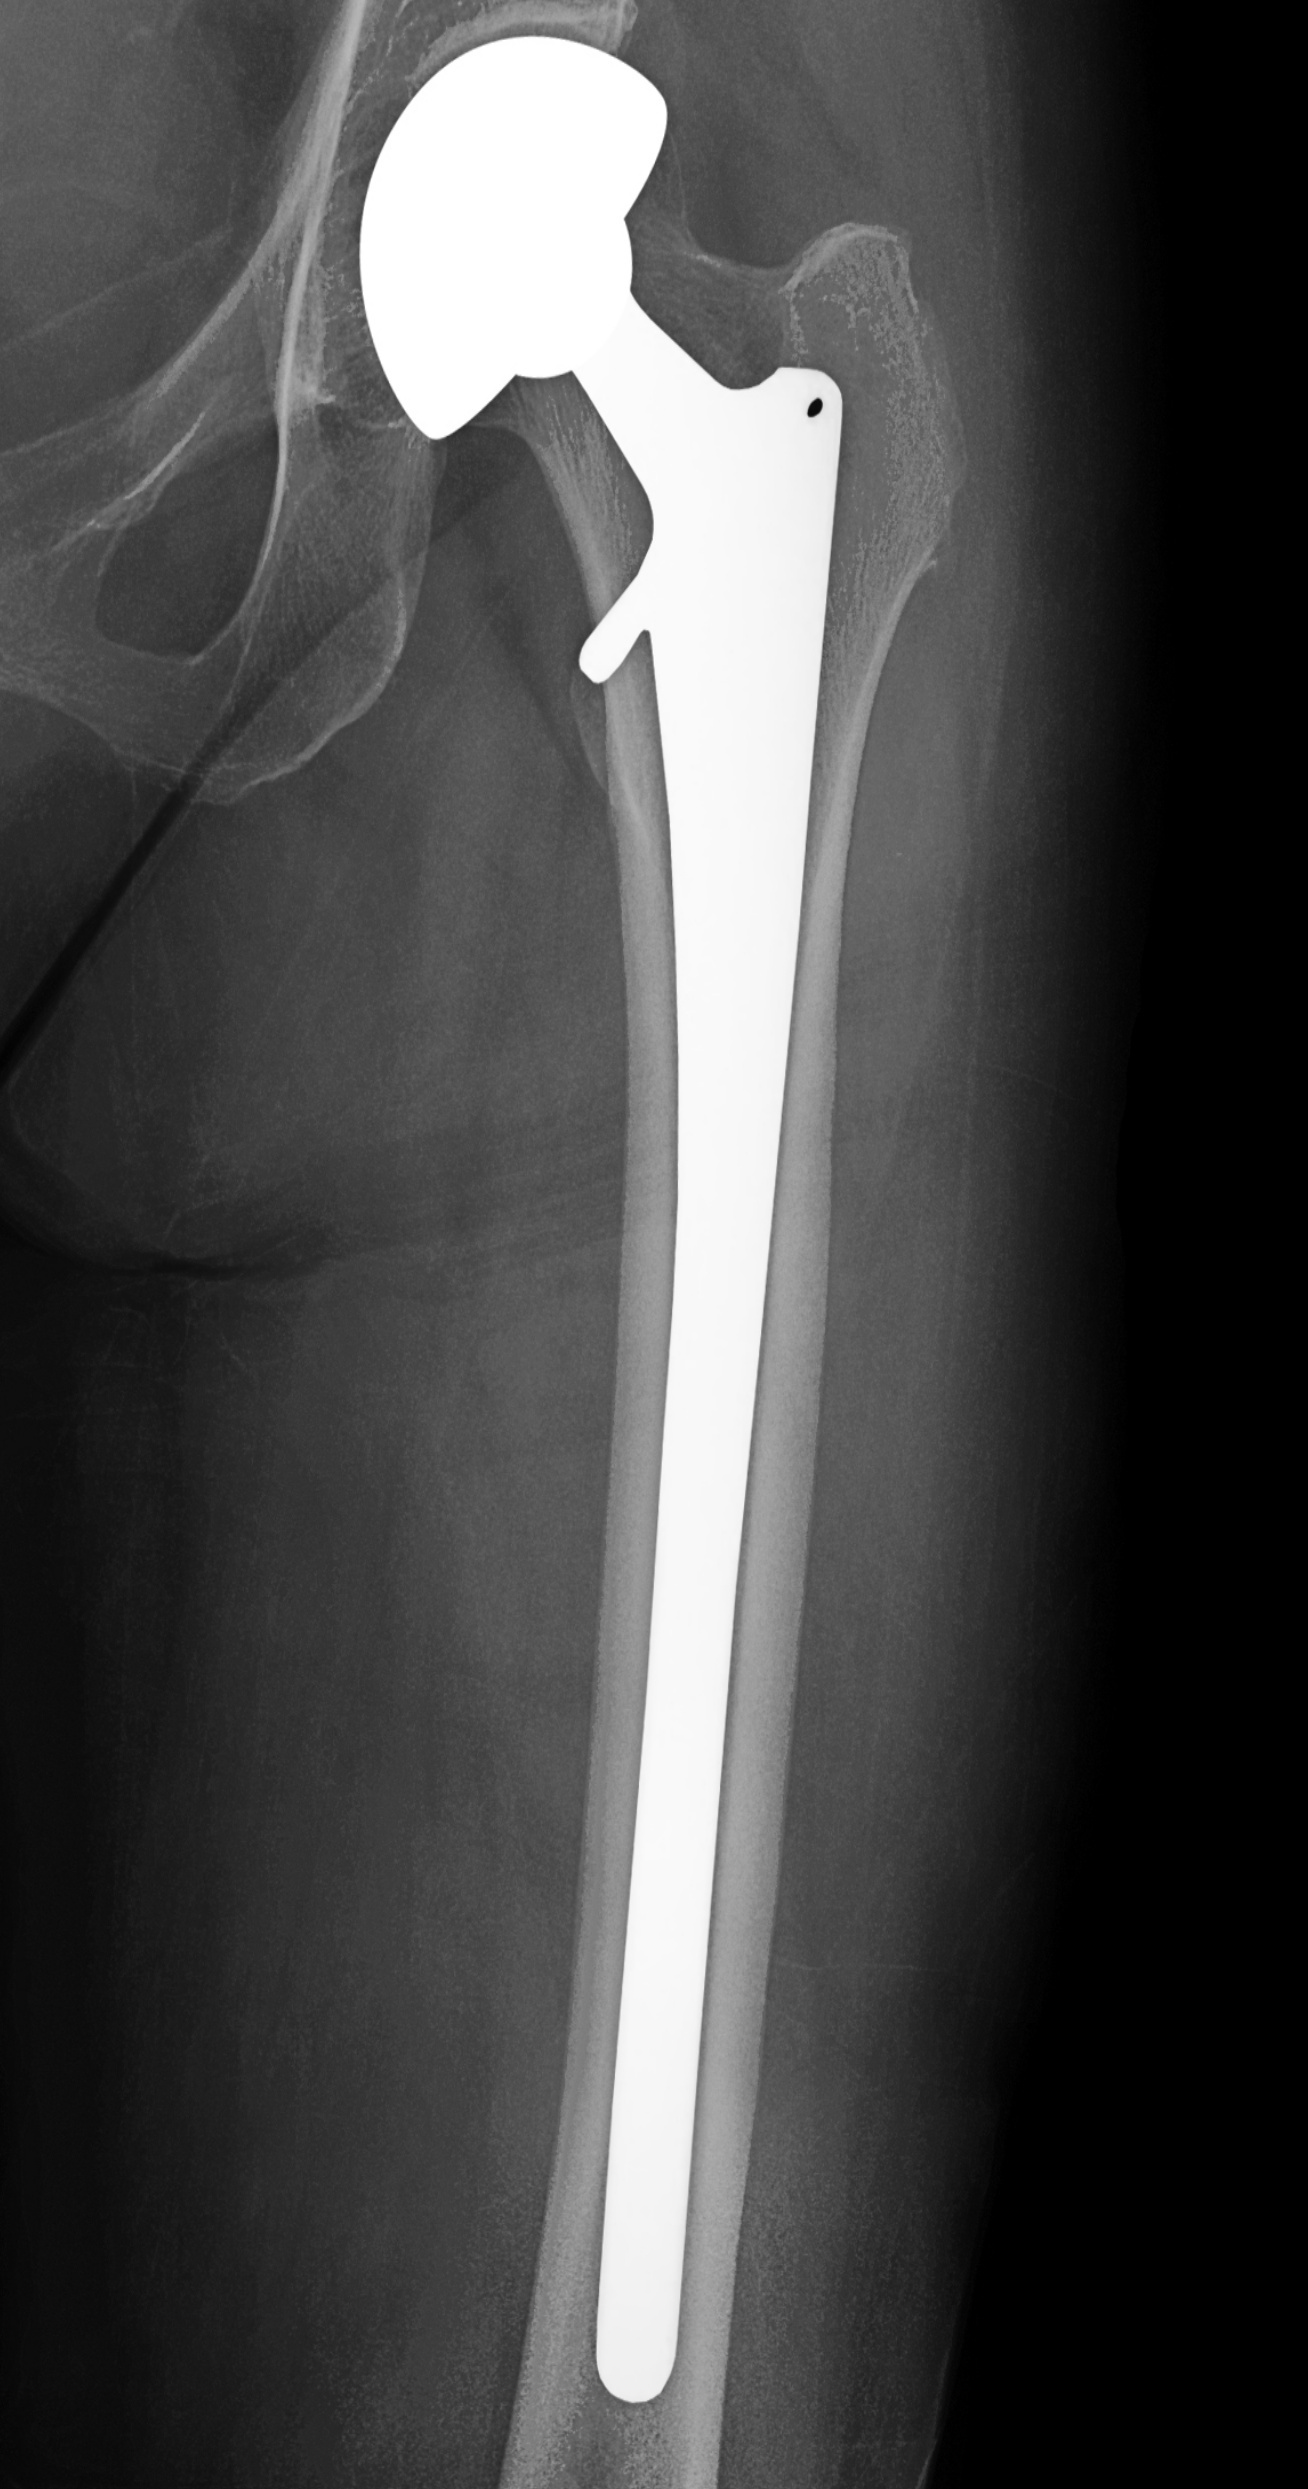Hip-Bias-Zimmer: (303, 36, 852, 2413)
